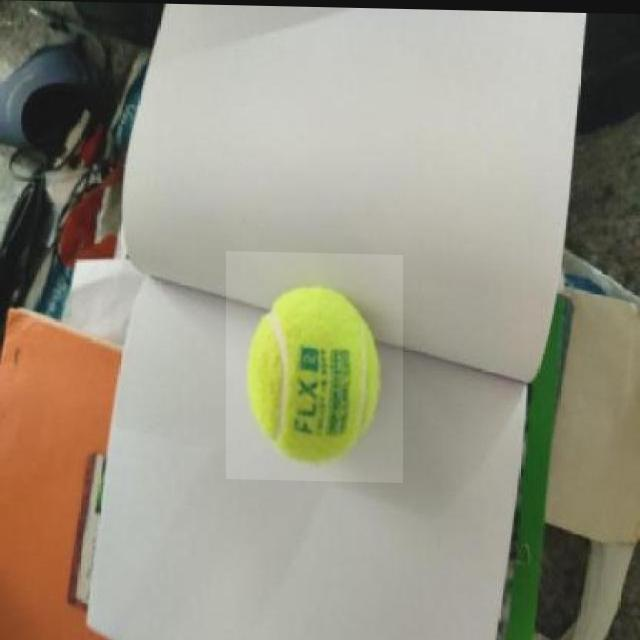-: (226, 250, 403, 481)
